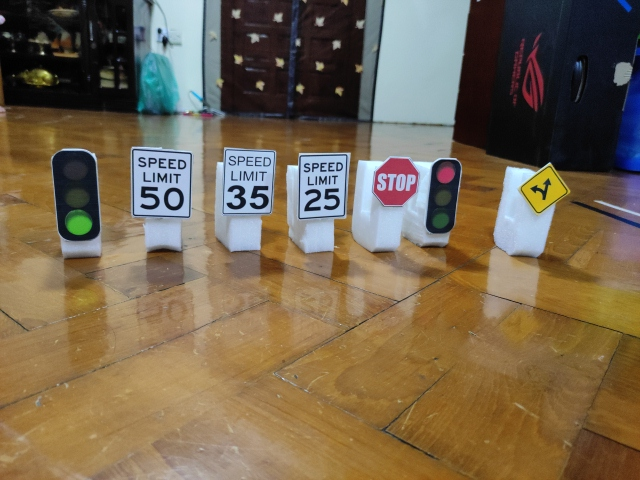Green Traffic Light: (52, 147, 102, 242)
Red Traffic Light: (425, 157, 462, 234)
Speed Limit 25: (297, 152, 350, 220)
Speed Limit 35: (222, 147, 277, 216)
Speed Limit 50: (130, 147, 193, 219)
Stop Sign: (372, 156, 420, 208)
Straight Or Left Sign: (520, 164, 569, 213)
